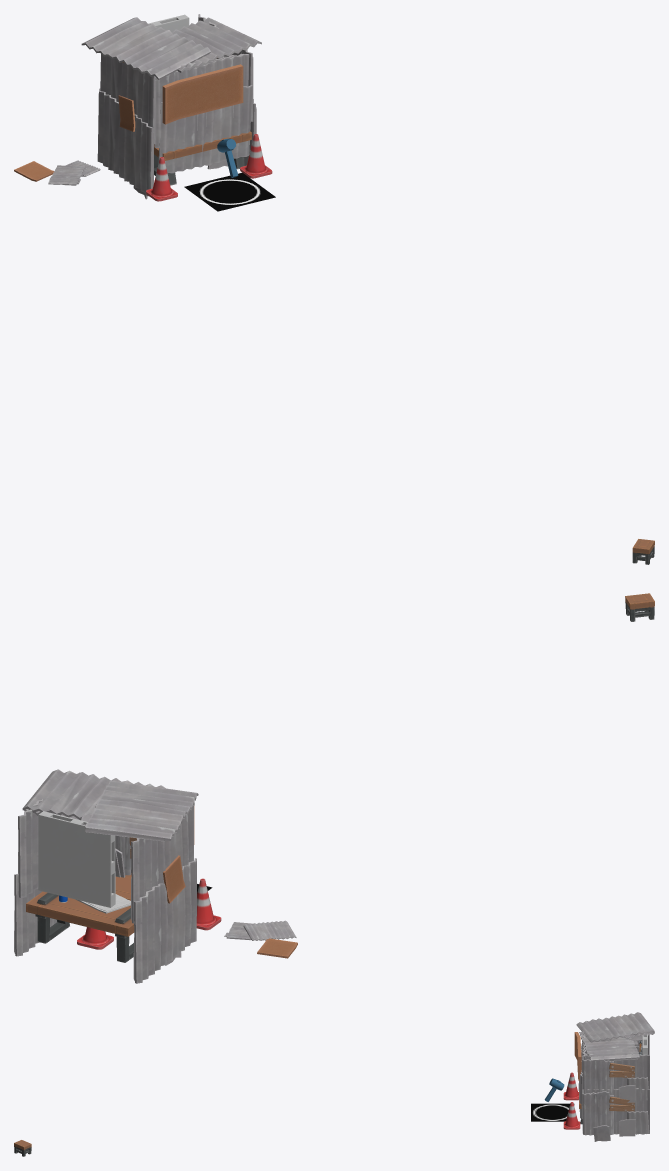
File: Workbench.fbx
3 renders of one model, top to bottom at view 1: azimuth 30°, elevation 25°; view 2: azimuth 150°, elevation 25°; view 3: azimuth 270°, elevation 25°, orthographic. The views are drawn at different scales.
Parts seen in each view (by area): view 1: Mat_MetalBoard_01_1, Mat_PaperBox_02, BuildingInteractRing, Mat_Indoors_Table_02, Mat_Roadblocks01; view 2: Mat_MetalBoard_01_1, Mat_PlasticPallet_01, Mat_Indoors_Table_02, Mat_Roadblocks01, Mat_PaperBox_02, Mat_MetalBoard_01_3; view 3: Mat_MetalBoard_01_1, Mat_MetalBoard_01_3, Mat_MetalBoard_01_4, BuildingInteractRing, Mat_WoodBoards_01_2, Mat_Roadblocks01, Mat_Indoors_Table_02, Mat_PaperBox_02.
Boxes of the visible parts, bbox=[...] form: Mat_MetalBoard_01_1: bbox=[48, 14, 261, 199]; Mat_PaperBox_02: bbox=[14, 64, 243, 181]; BuildingInteractRing: bbox=[184, 172, 275, 211]; Mat_Indoors_Table_02: bbox=[154, 131, 654, 564]; Mat_Roadblocks01: bbox=[146, 134, 272, 201]; Mat_MetalBoard_01_1: bbox=[14, 769, 296, 983]; Mat_PlasticPallet_01: bbox=[38, 811, 115, 907]; Mat_Indoors_Table_02: bbox=[26, 593, 654, 962]; Mat_Roadblocks01: bbox=[77, 878, 221, 949]; Mat_PaperBox_02: bbox=[163, 806, 297, 958]; Mat_MetalBoard_01_3: bbox=[80, 819, 263, 940]; Mat_MetalBoard_01_1: bbox=[576, 1012, 654, 1141]; Mat_MetalBoard_01_3: bbox=[582, 1031, 654, 1135]; Mat_MetalBoard_01_4: bbox=[593, 1039, 649, 1134]; BuildingInteractRing: bbox=[531, 1103, 574, 1121]; Mat_WoodBoards_01_2: bbox=[609, 1063, 634, 1111]; Mat_Roadblocks01: bbox=[563, 1072, 580, 1129]; Mat_Indoors_Table_02: bbox=[14, 1089, 582, 1156]; Mat_PaperBox_02: bbox=[574, 1032, 581, 1080].
Bounding box in the file's own units: 5.56 × 4.38 × 21.39.
14 materials, 14 textured.
